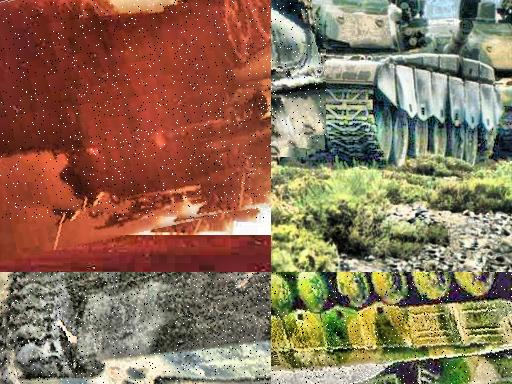tanks: (1, 1, 272, 220), (272, 1, 512, 166), (2, 273, 272, 384), (272, 273, 512, 384), (462, 1, 512, 158), (430, 20, 463, 52)
